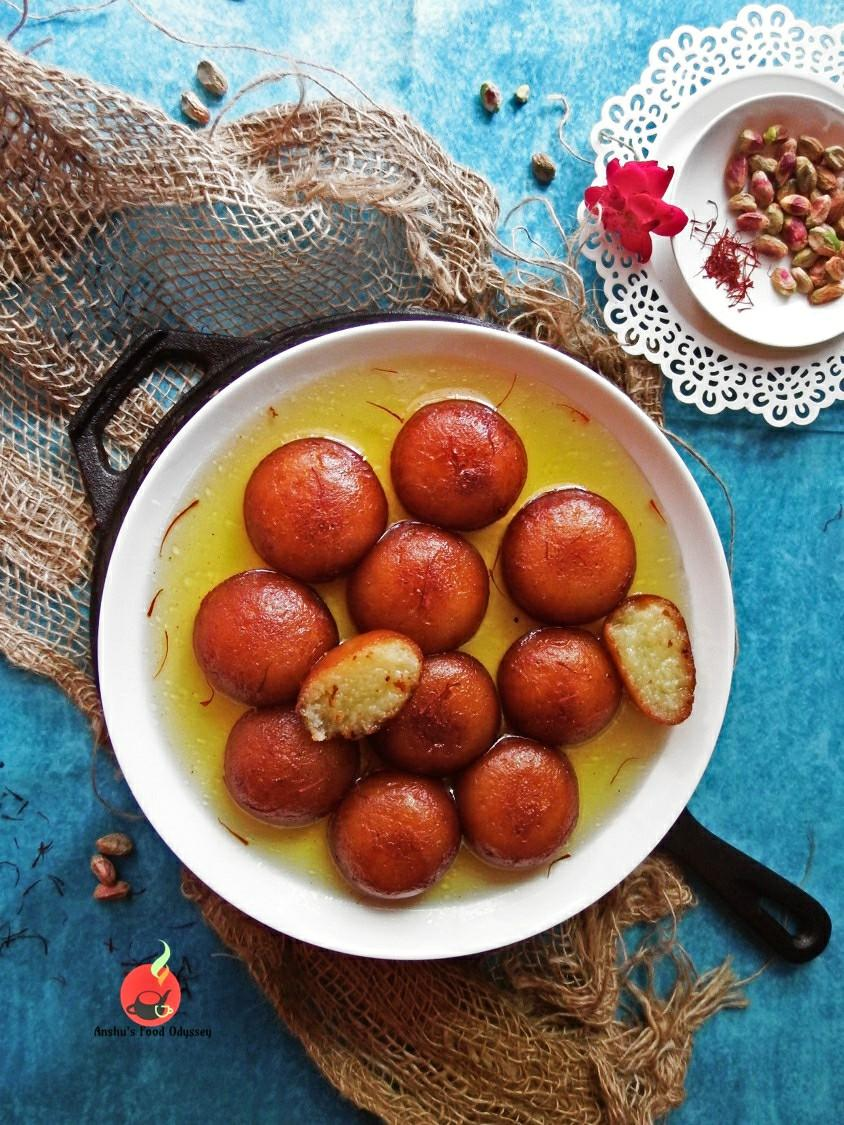GulabJamun: (194, 568, 343, 700), (500, 486, 637, 627), (347, 523, 492, 656), (247, 439, 388, 567), (390, 400, 530, 528), (222, 700, 358, 830), (326, 772, 457, 899), (495, 628, 622, 746), (377, 652, 498, 772), (300, 633, 420, 744), (466, 747, 578, 865), (602, 593, 696, 727)
